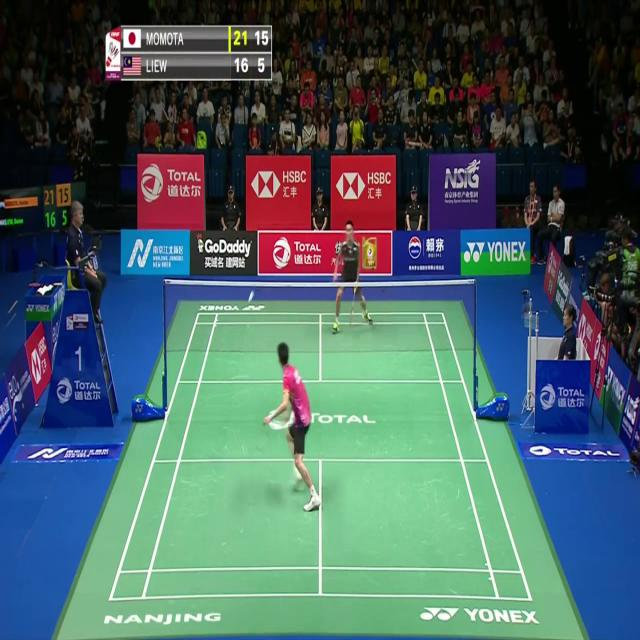Shuttlecock: (247, 290, 253, 302)
